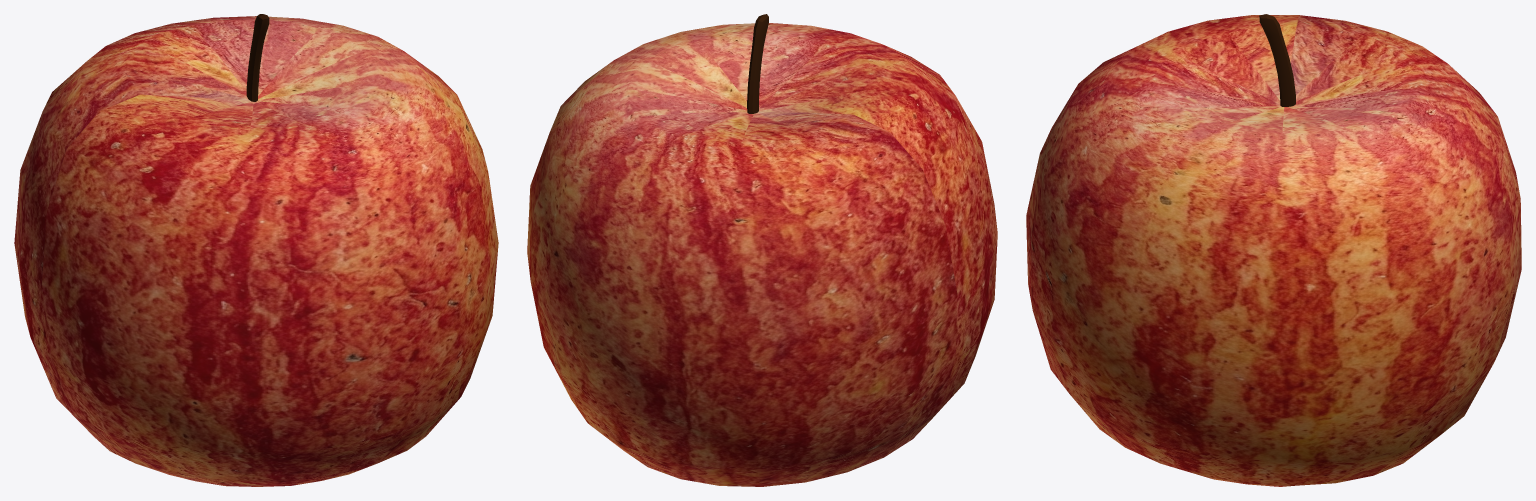
Rendered from apple1.glb.
3 views of the same model, side by side, from view 1: azimuth 30°, elevation 25°; view 2: azimuth 150°, elevation 25°; view 3: azimuth 270°, elevation 25° (orthographic). The views are drawn at different scales.
Visible parts, largest first — view 1: AppleBody.002; view 2: AppleBody.002; view 3: AppleBody.002.
Boxes of the visible parts, x1,y1,x2,y2 form: AppleBody.002: [14, 14, 498, 486]; AppleBody.002: [527, 14, 997, 486]; AppleBody.002: [1026, 14, 1521, 486].
Bounding box in the file's own units: 0.2662 × 0.2675 × 0.2773.
Materials: 2 (1 with a texture image).
